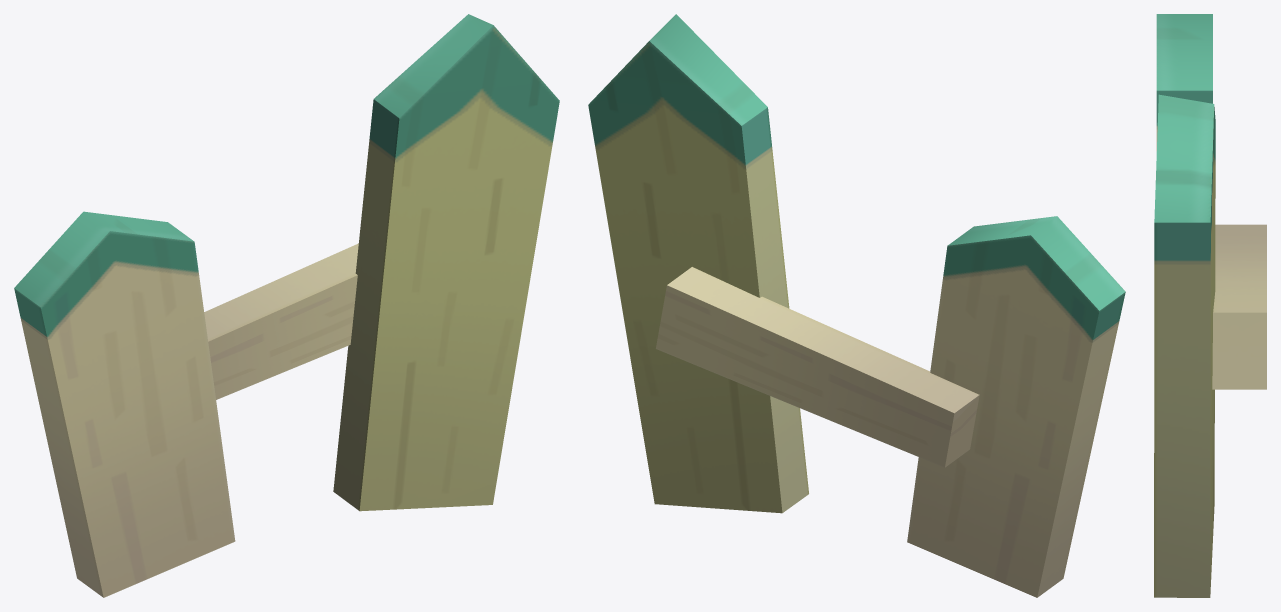
The model's file is BG_042_fence.FBX.
The picture shows the model from 3 angles, left to right: view 1: azimuth 30°, elevation 25°; view 2: azimuth 150°, elevation 25°; view 3: azimuth 270°, elevation 25°; orthographic projection. The views are drawn at different scales.
Visible parts, largest first — view 1: BG_042_fence; view 2: BG_042_fence; view 3: BG_042_fence.
Part boxes in pixels (box(x1,y1,x2,y2)): BG_042_fence: box(14, 14, 559, 597); BG_042_fence: box(588, 14, 1125, 597); BG_042_fence: box(1154, 14, 1266, 597).
Bounding box in the file's own units: 192 × 169 × 34.32.
